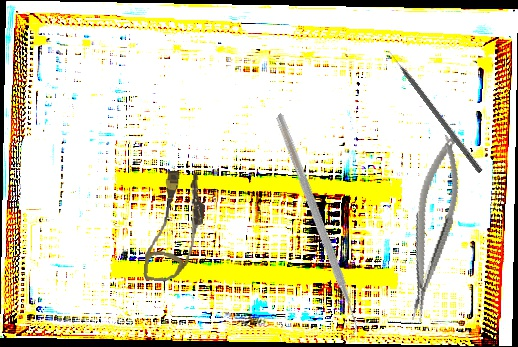Cannula: (142, 168, 209, 286)
Chopper: (192, 113, 435, 345)
Hook Surgical: (388, 49, 484, 174)
Needle Holder: (392, 132, 472, 324)
